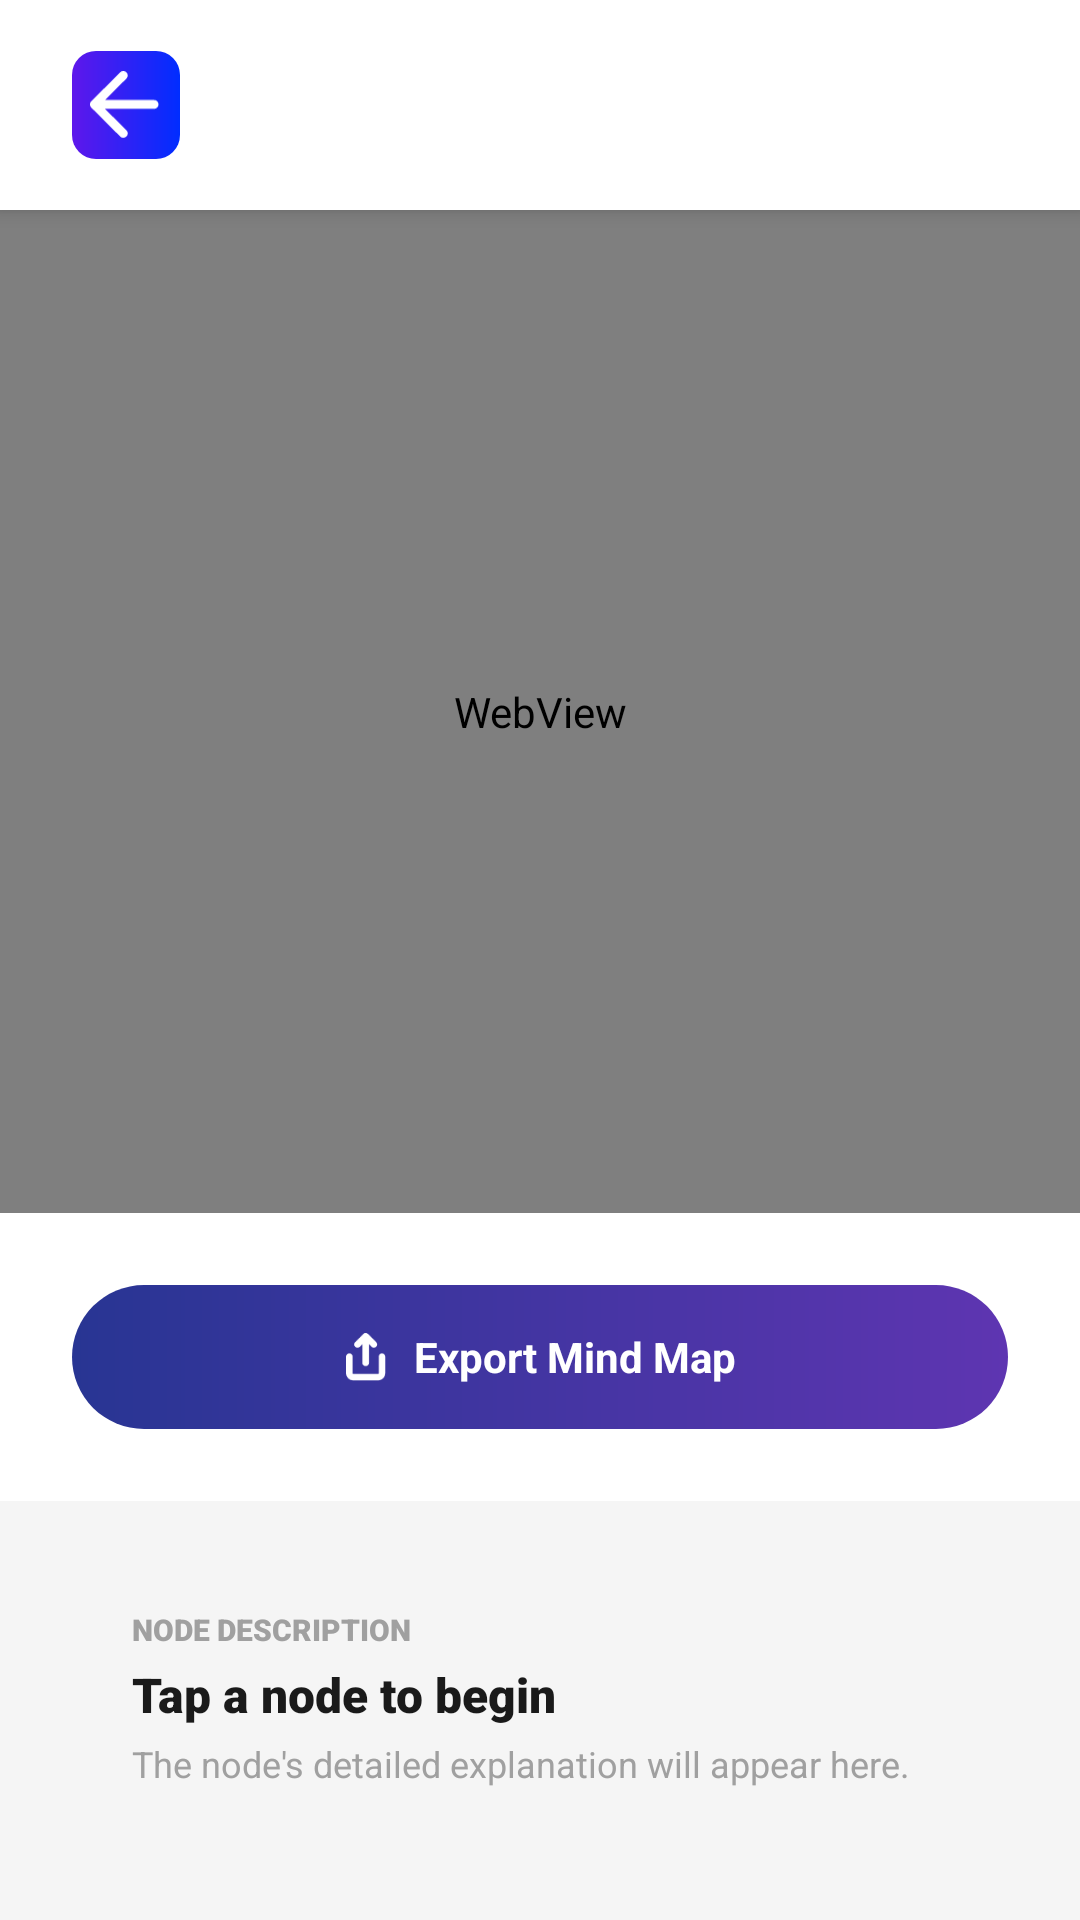

Where icons sit on this 1080px×1920px app screen, as bbox=(x1, y1, x2, y2):
back arrow: bbox=(72, 51, 180, 159)
